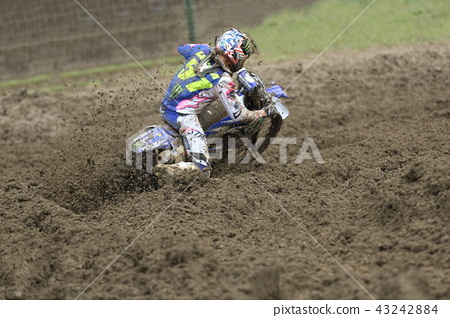helmet: (218, 27, 254, 68)
